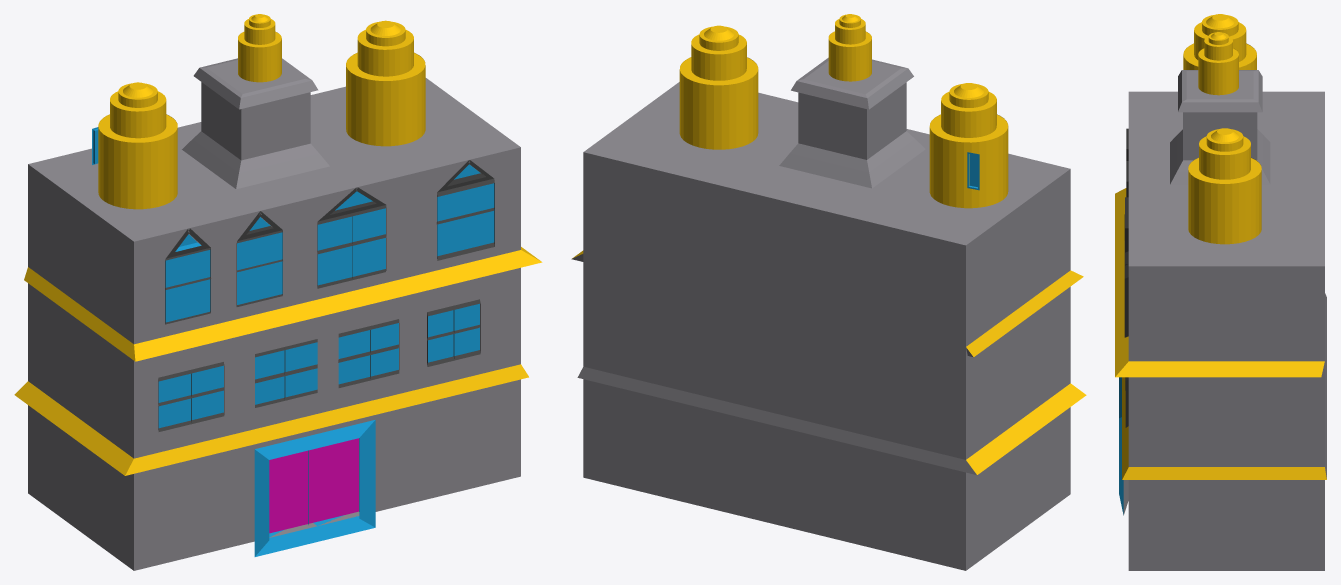
The model's file is BUILD 2 INFRAS.fbx.
The picture shows the model from 3 angles, left to right: view 1: azimuth 30°, elevation 25°; view 2: azimuth 150°, elevation 25°; view 3: azimuth 270°, elevation 25°; orthographic projection. The views are drawn at different scales.
Parts seen in each view (by area): view 1: APARTEMEN; view 2: APARTEMEN; view 3: APARTEMEN.
Part boxes in pixels (x1,y1,x2,y2): APARTEMEN: (14,14,542,570); APARTEMEN: (571,14,1086,570); APARTEMEN: (1115,14,1326,570).
Size of the model in its own units: 5180 by 5860 by 2484.
